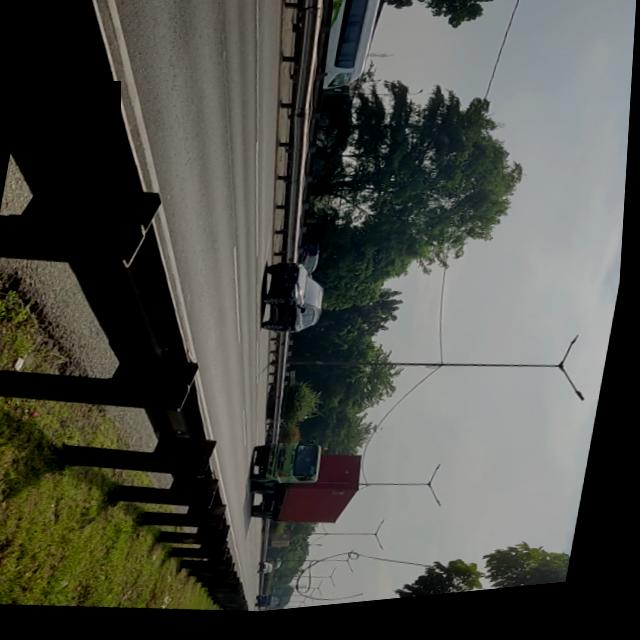Golongan I: (254, 259, 337, 349)
Golongan IV: (239, 436, 371, 541)
